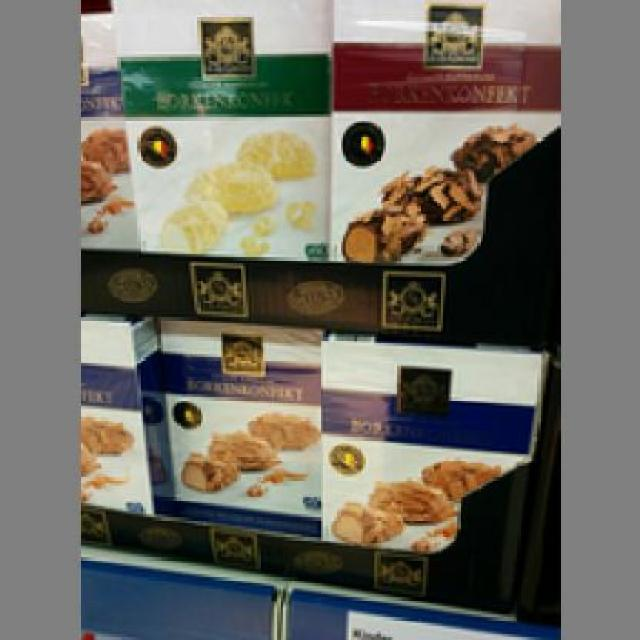Chocolate: (326, 0, 551, 266), (107, 0, 326, 255), (312, 332, 548, 554), (150, 314, 324, 534)
